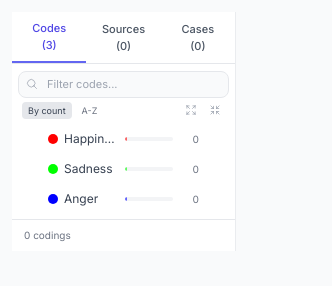
CodeNavigator › filter input hides non-matching codes
The width and height of the screenshot is (332, 286).
Type "sad" into the field with placeholder "Filter codes..." at (124, 84), box top-left (18, 71), bottom-right (229, 98)
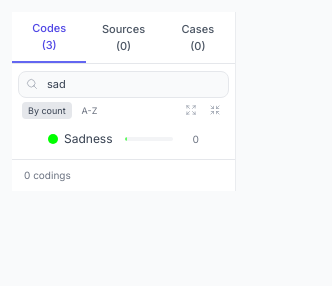
Expected: the text "Sadness" is shown, top-left (64, 131), bottom-right (119, 147)
Result: the button "Happiness" is gone
Result: the button "Anger" is gone
Replace the text in the field with placeholder "Filter codes..." with "unmatched theme" at (124, 84), box top-left (18, 71), bottom-right (229, 98)
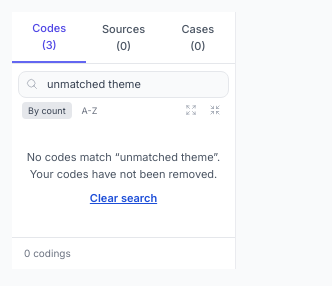
Result: the text "Your codes have not been removed" is shown at top-left (30, 150), bottom-right (220, 180)
Click the button "Clear search" at (123, 198), box top-left (90, 190), bottom-right (157, 206)
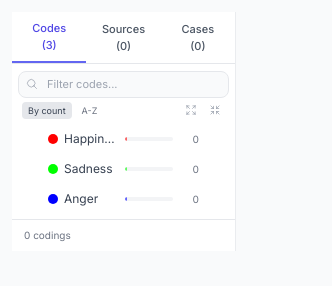
Result: the text "Happiness" is shown at top-left (64, 131), bottom-right (119, 147)
Result: the text "Sadness" is shown at top-left (64, 161), bottom-right (119, 177)
